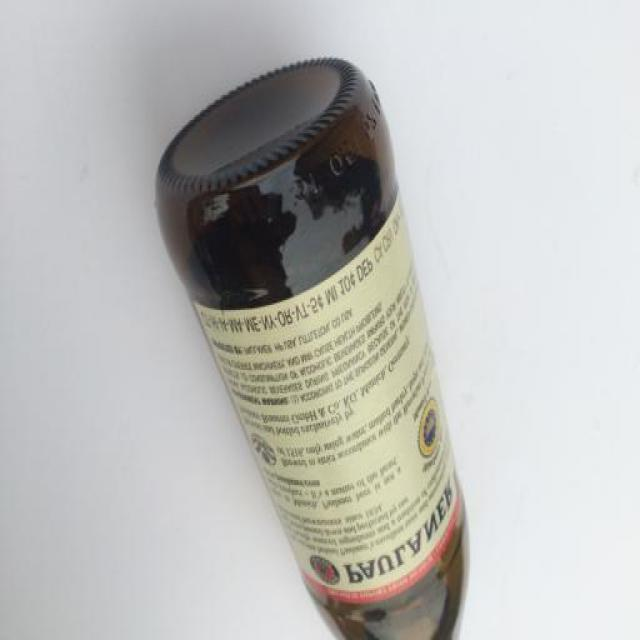glass: (152, 55, 470, 640)
